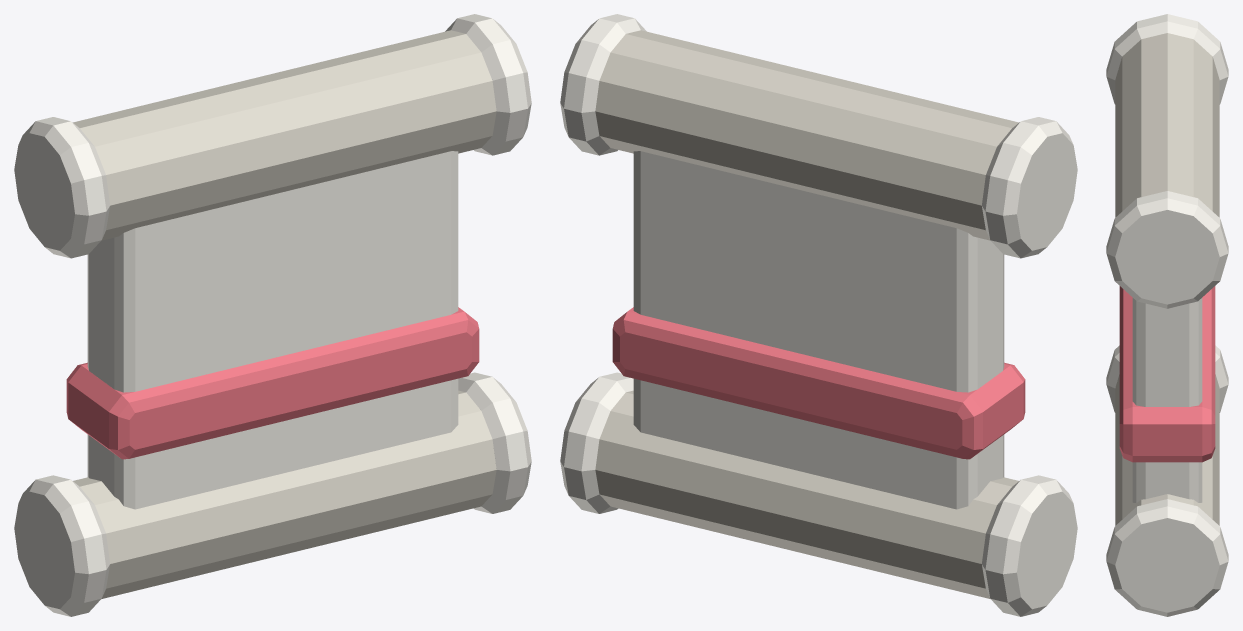
The model's file is game-ui-icon-library-scroll-73cdebd0__19007.glb.
3 renders of one model, left to right at view 1: azimuth 30°, elevation 25°; view 2: azimuth 150°, elevation 25°; view 3: azimuth 270°, elevation 25°, orthographic. The views are drawn at different scales.
Visible parts, largest first — view 1: scroll; view 2: scroll; view 3: scroll.
Part boxes in pixels (x1=…): scroll: x1=14, y1=14, x2=531, y2=616; scroll: x1=560, y1=14, x2=1077, y2=616; scroll: x1=1106, y1=14, x2=1228, y2=616.
Bounding box in the file's own units: 0.9222 × 0.94 × 0.2483.
